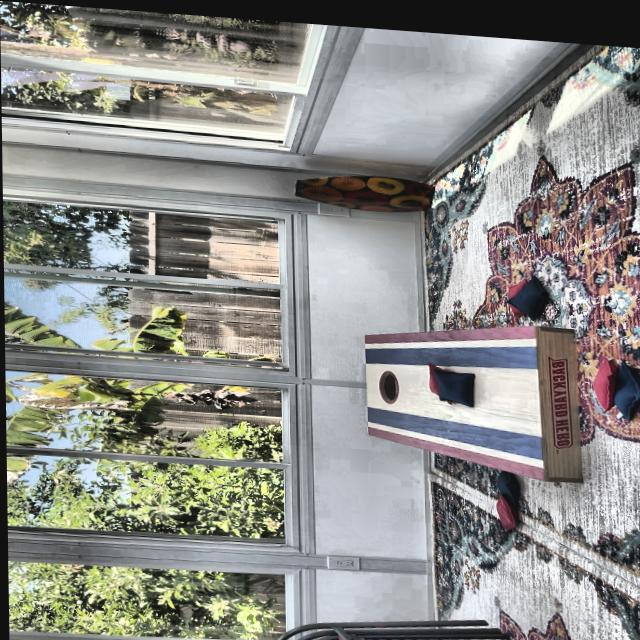blue-bean-bag: (611, 348, 640, 414), (507, 266, 546, 312), (433, 362, 476, 398), (492, 461, 520, 499)
board: (366, 320, 538, 450)
hole: (377, 362, 400, 398)
red-bean-bag: (590, 346, 616, 405), (428, 356, 454, 398), (491, 485, 518, 524), (505, 270, 528, 310)
